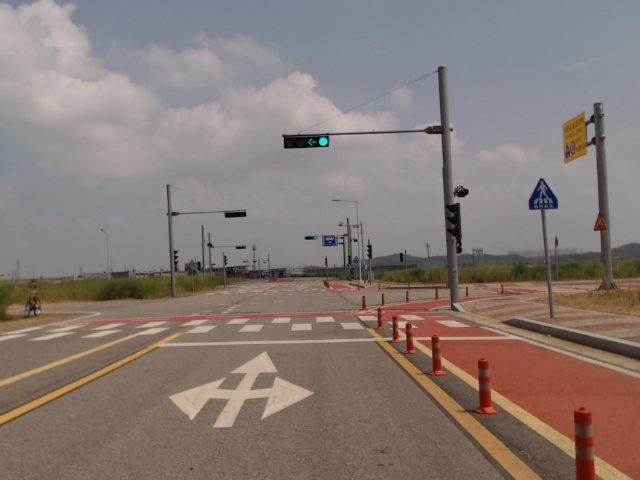all_green_4: (282, 135, 330, 148), (304, 235, 318, 240)
